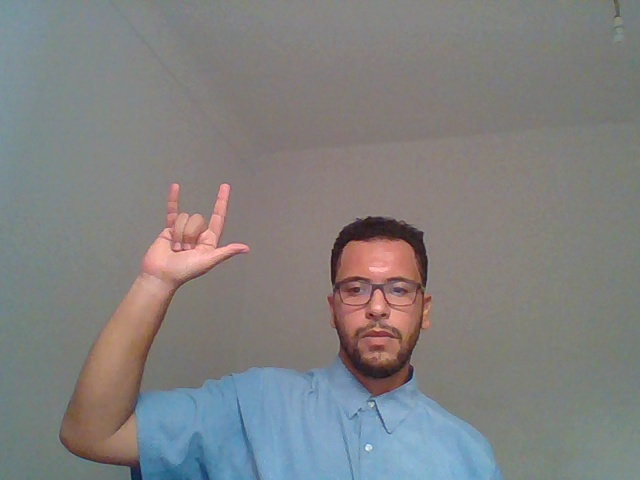iloveyou: (95, 150, 260, 425)
